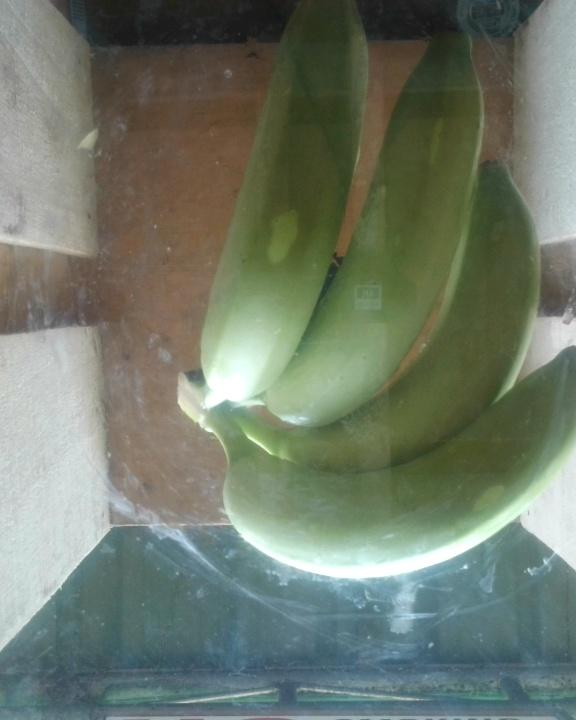SPOT: (169, 1, 576, 587)
